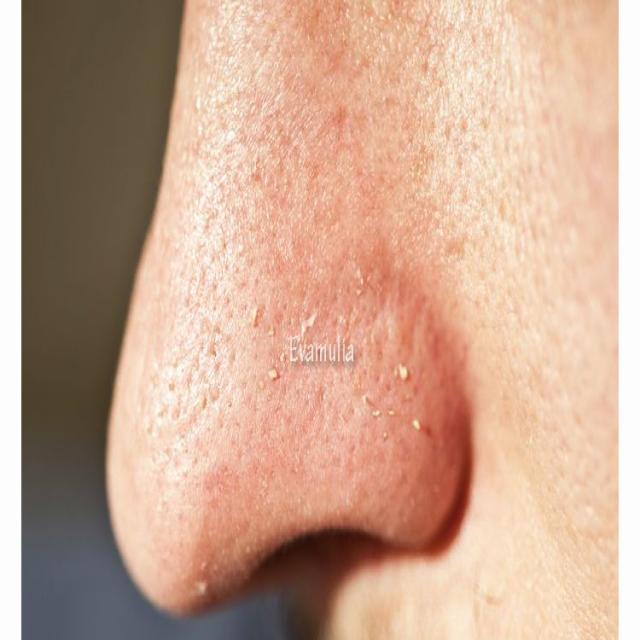Acne: (130, 4, 458, 609)
